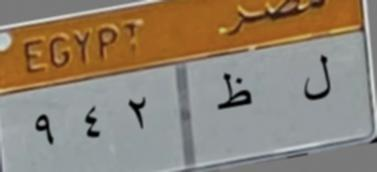2: (121, 90, 154, 141)
4: (80, 104, 108, 149)
9: (30, 107, 58, 154)
Thaa: (210, 69, 256, 120)
laam: (298, 50, 336, 110)
